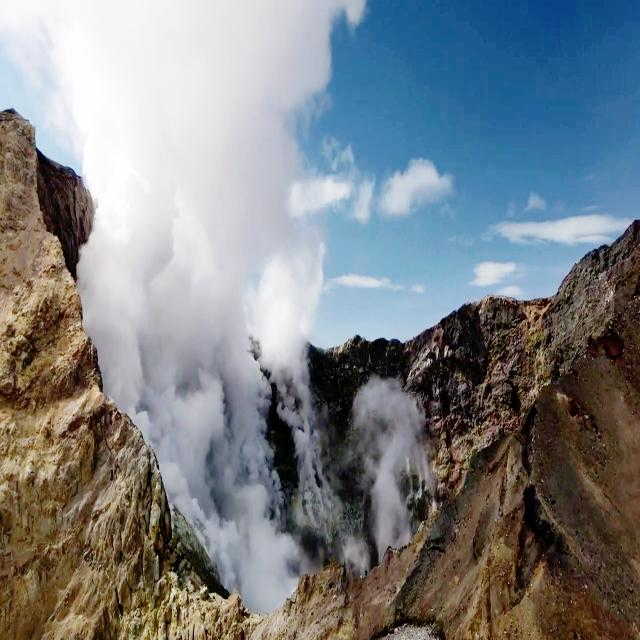asap: (30, 1, 346, 635), (54, 16, 187, 424)
